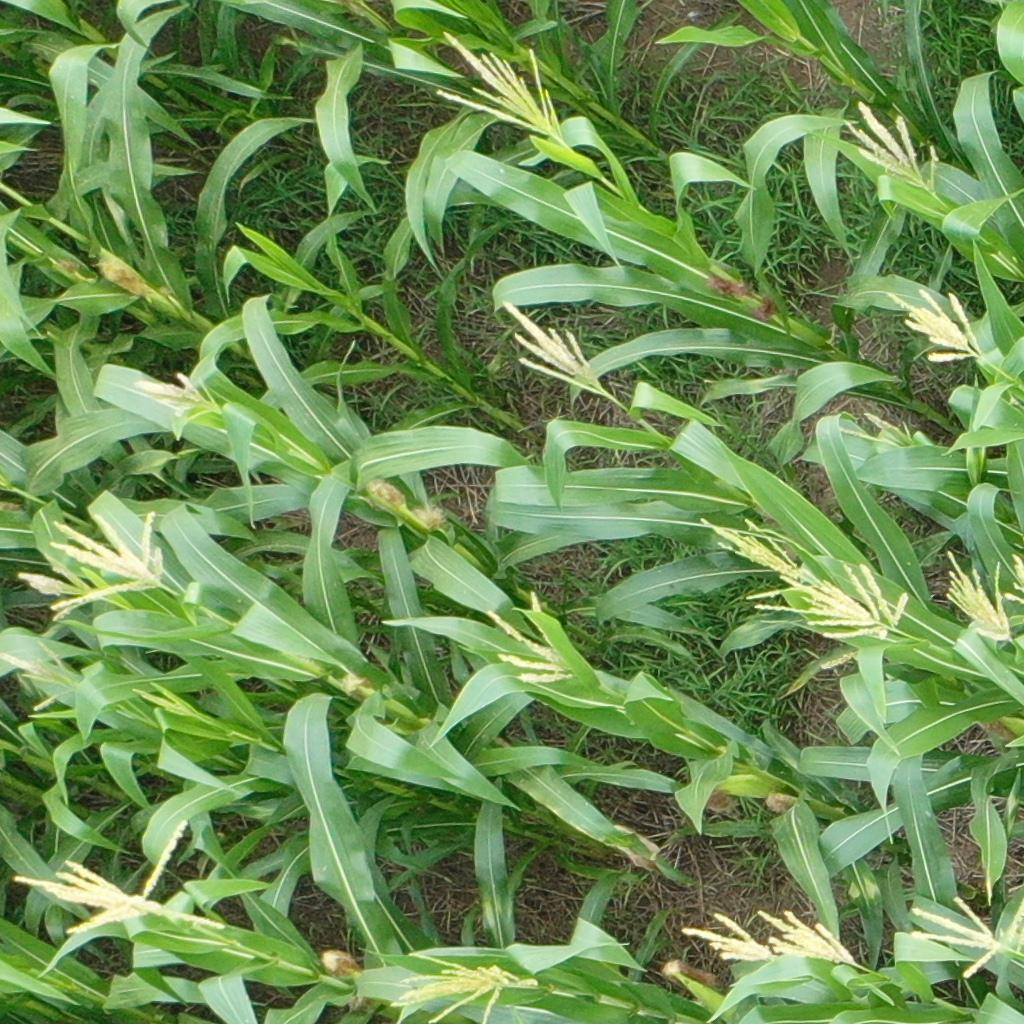Tassel: (9, 818, 228, 944), (426, 30, 567, 144), (751, 560, 910, 643), (41, 510, 167, 612), (389, 951, 541, 1024), (498, 297, 607, 397), (905, 890, 1024, 979), (697, 515, 817, 602), (844, 101, 942, 195), (485, 589, 575, 690), (881, 282, 985, 367), (759, 909, 876, 966), (1, 637, 82, 714), (944, 551, 1011, 641), (17, 552, 98, 618), (680, 911, 778, 964), (134, 369, 222, 424), (836, 410, 919, 449), (132, 682, 193, 720), (1003, 551, 1024, 605)
